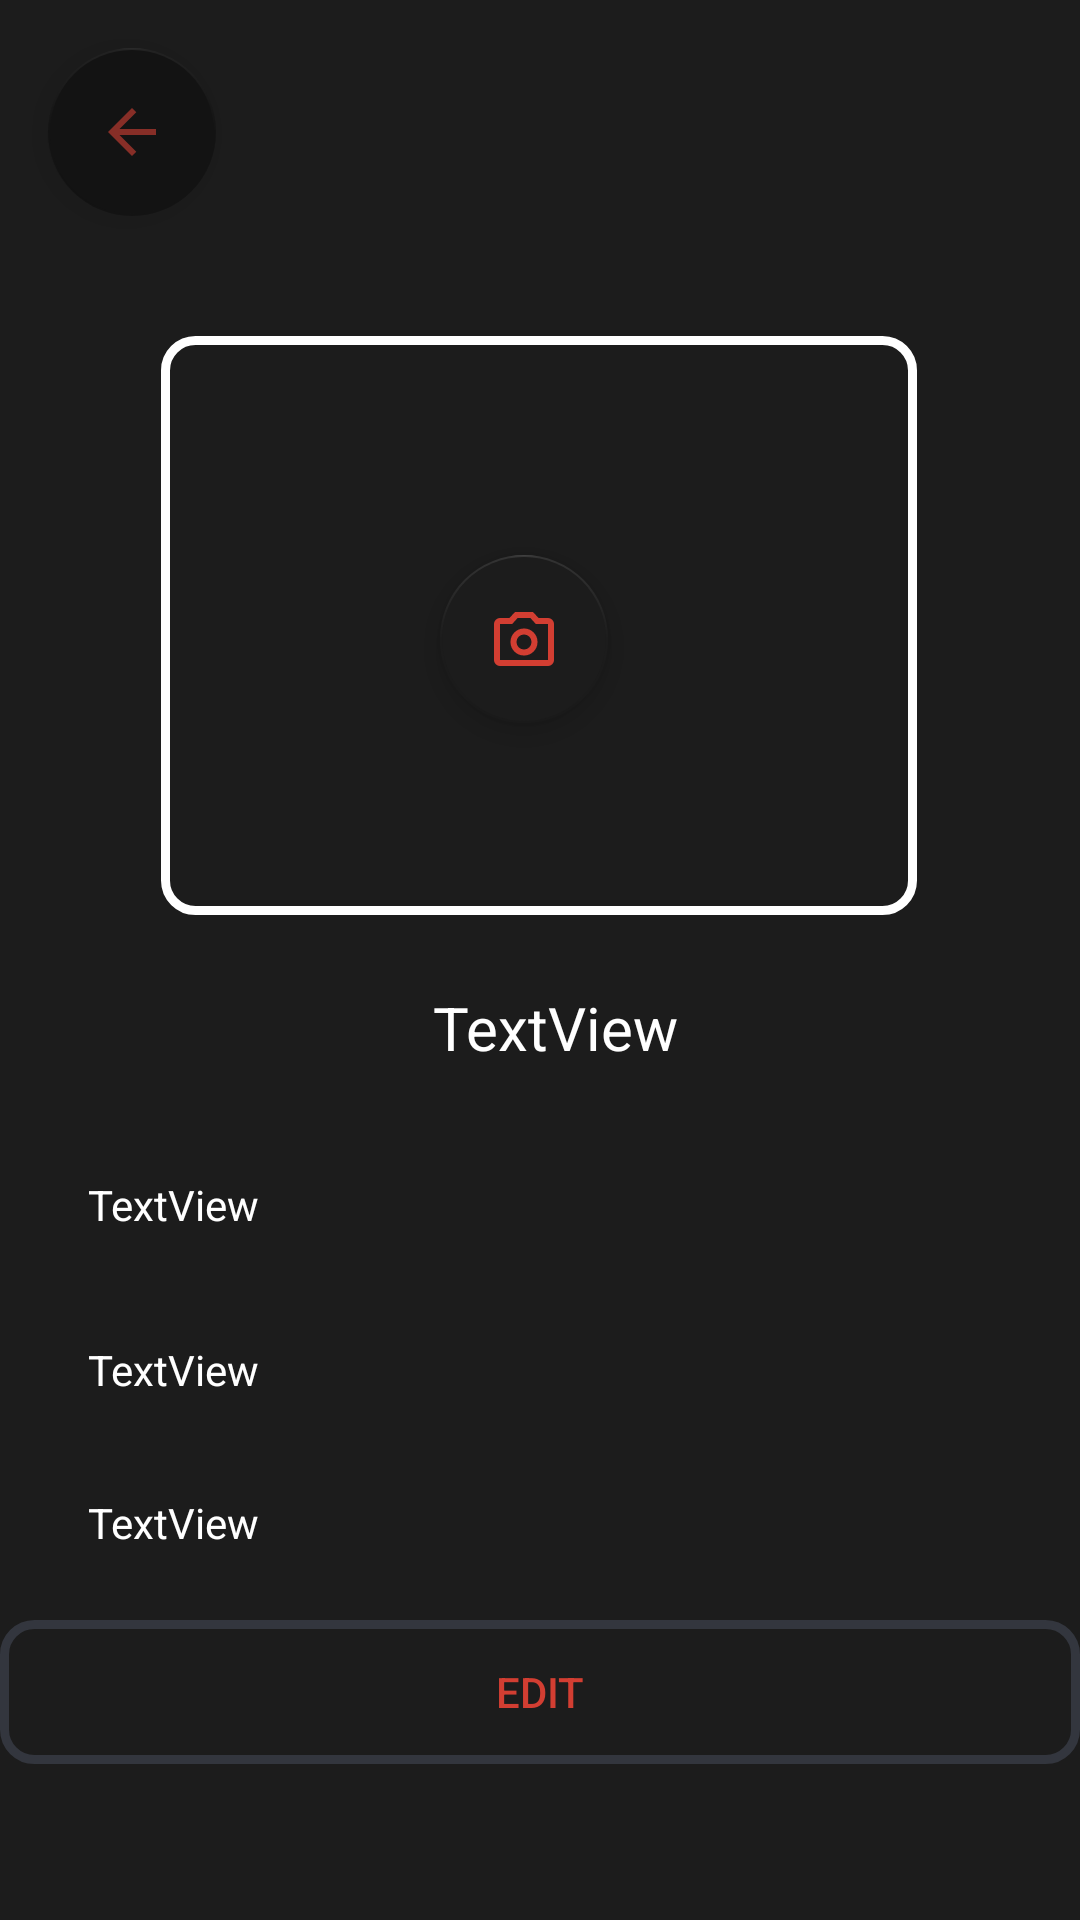

Point at icon controls on the screen. Image size 1080×1920, points as (x,y).
back: (131,132)
